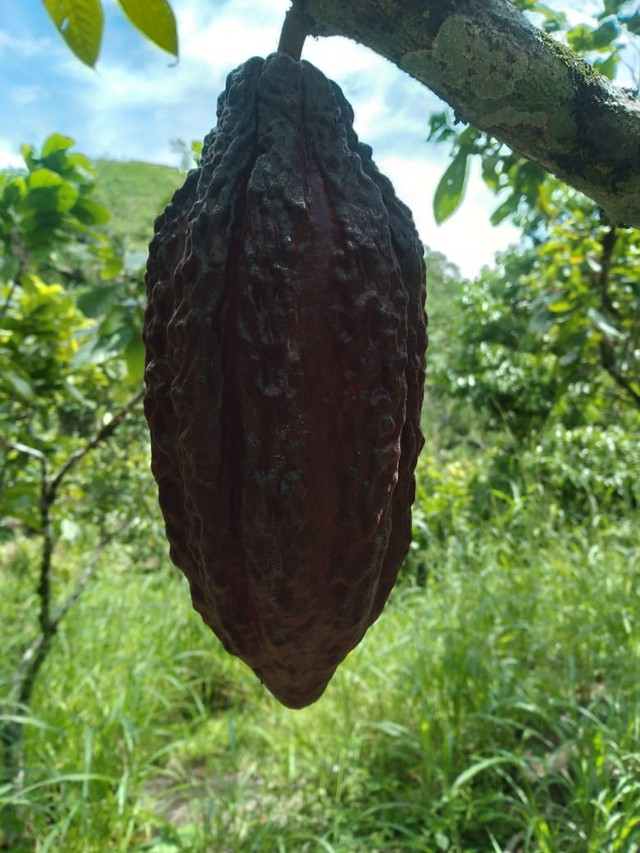Health: (107, 37, 453, 729)
